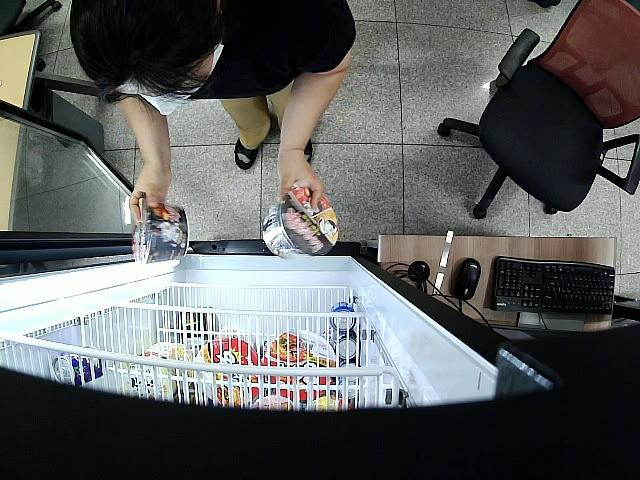00_hand: (278, 155, 325, 212), (129, 163, 171, 225)
07_buldak_L: (261, 185, 339, 261), (131, 198, 188, 267)
